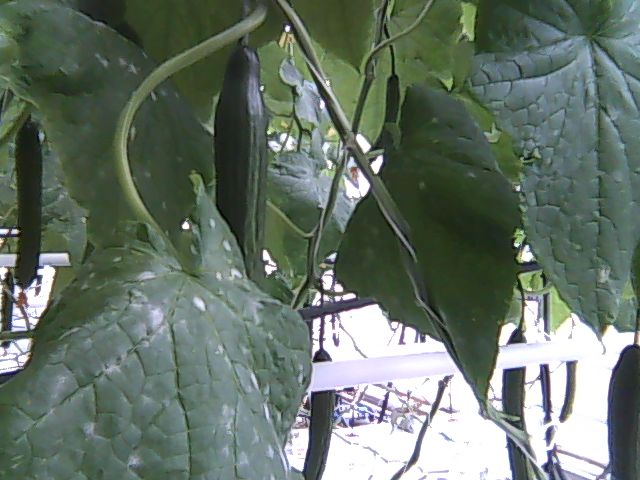concombre: (212, 39, 269, 293), (599, 336, 640, 480)
